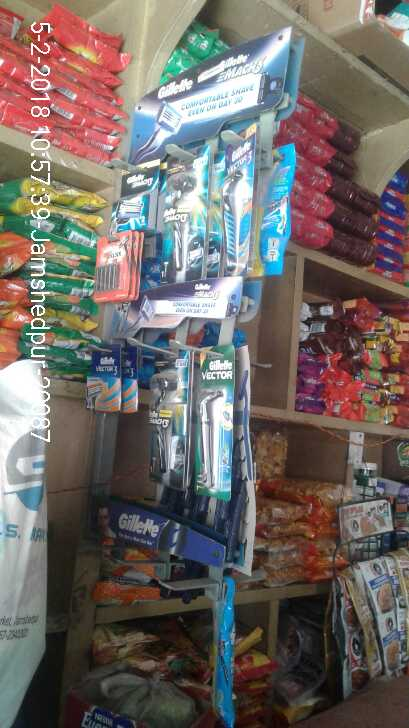gillette: (164, 161, 211, 286), (217, 146, 261, 279), (144, 357, 184, 486), (189, 360, 229, 489), (81, 346, 147, 418), (106, 166, 167, 229), (91, 231, 132, 305)
